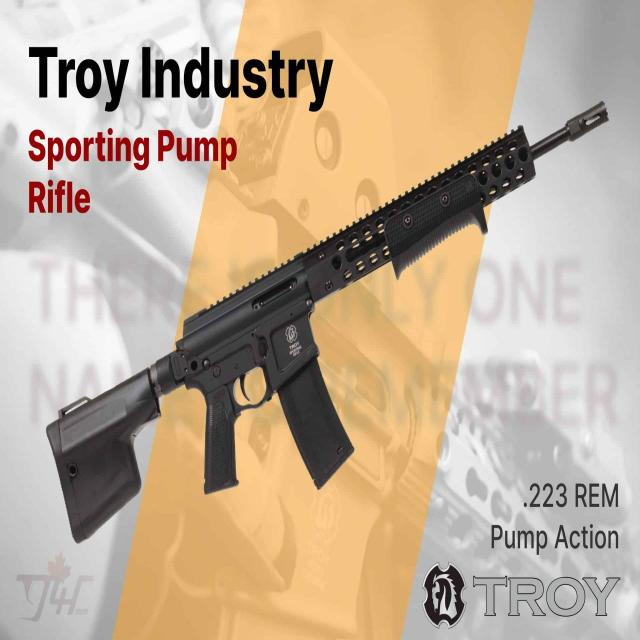Rifle: (46, 104, 610, 545)
